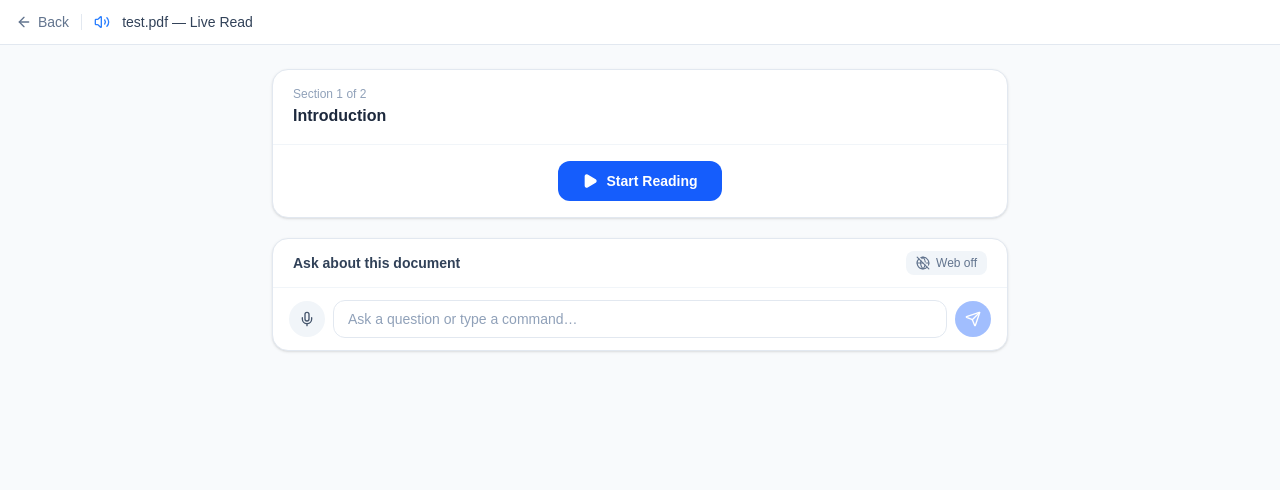
Scenario: LiveReader — chat panel › shows user message in chat after sending
Type "What is this?" into the field with placeholder "Ask a question or type a command…".
click(640, 319); type("What is this?")  # box [333,300,947,338]
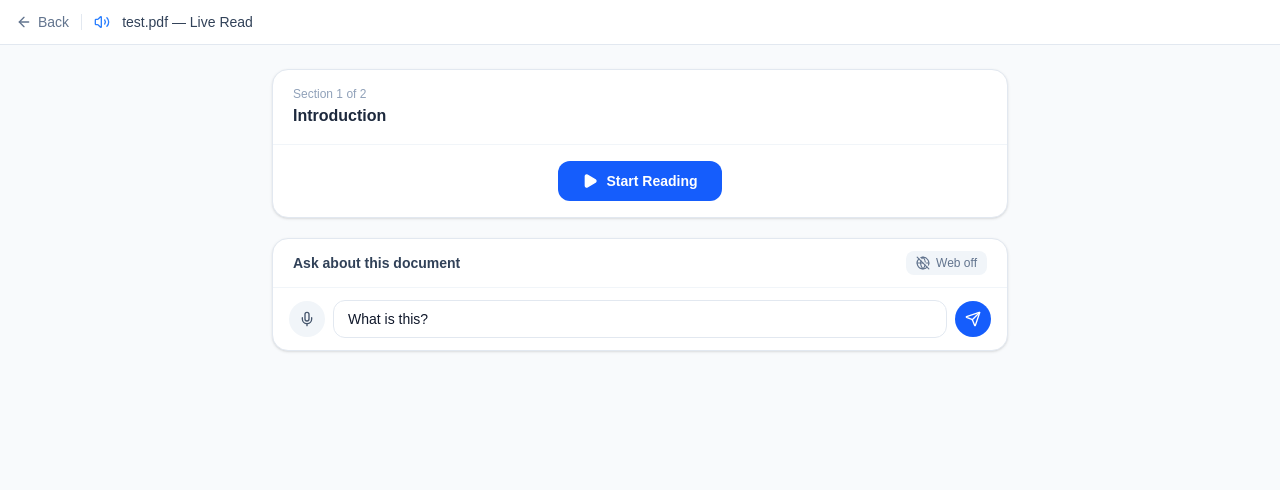
Click the button titled "Send".
click(973, 319)  # box [955,301,991,337]
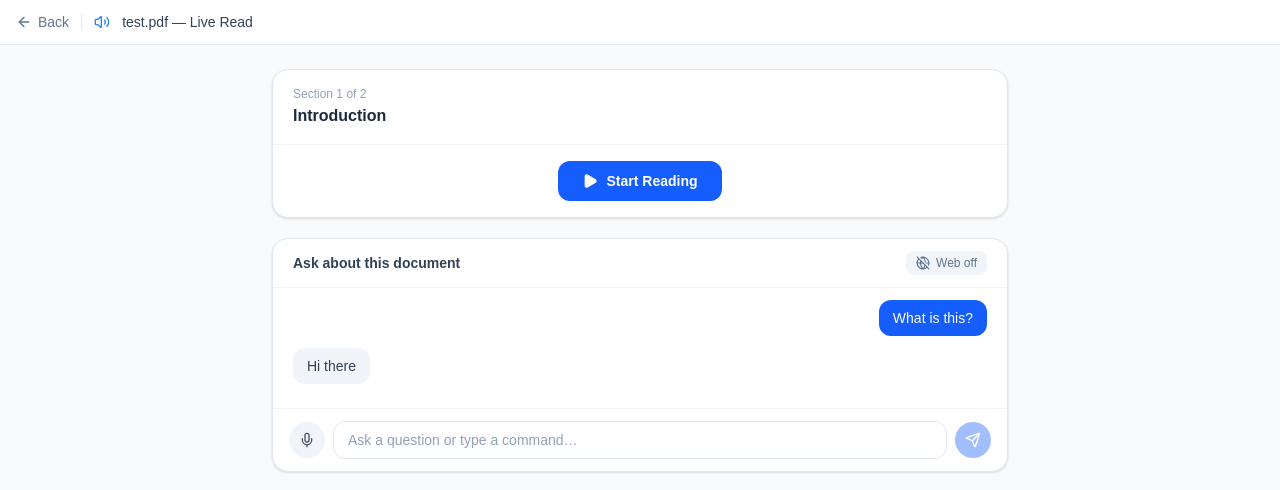
Result: the text "What is this?" is shown at [879,300,987,336]
